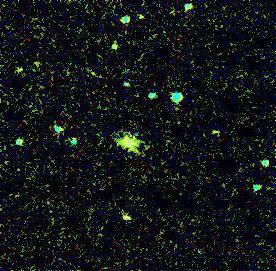star: (129, 9, 159, 39)
